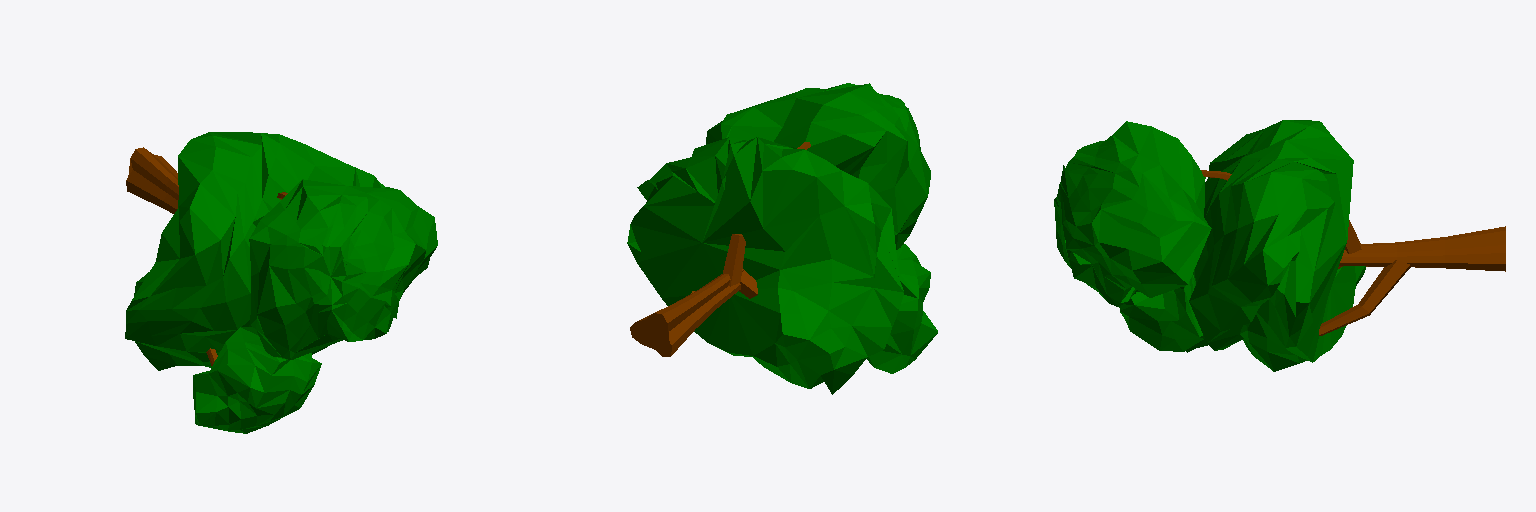
Rendered from tree_inne.obj.
3 views of the same model, side by side, from view 1: azimuth 30°, elevation 25°; view 2: azimuth 150°, elevation 25°; view 3: azimuth 270°, elevation 25° (orthographic).
Visible parts, largest first — view 1: leaves, trunk; view 2: leaves, trunk; view 3: leaves, trunk.
Part boxes in pixels (bbox=[...]): leaves: bbox=[125, 132, 437, 433]; trunk: bbox=[126, 147, 287, 365]; leaves: bbox=[627, 83, 937, 394]; trunk: bbox=[630, 142, 810, 356]; leaves: bbox=[1054, 120, 1365, 371]; trunk: bbox=[1201, 170, 1505, 335].
Bounding box in the file's own units: 1.48 × 1.32 × 2.21.